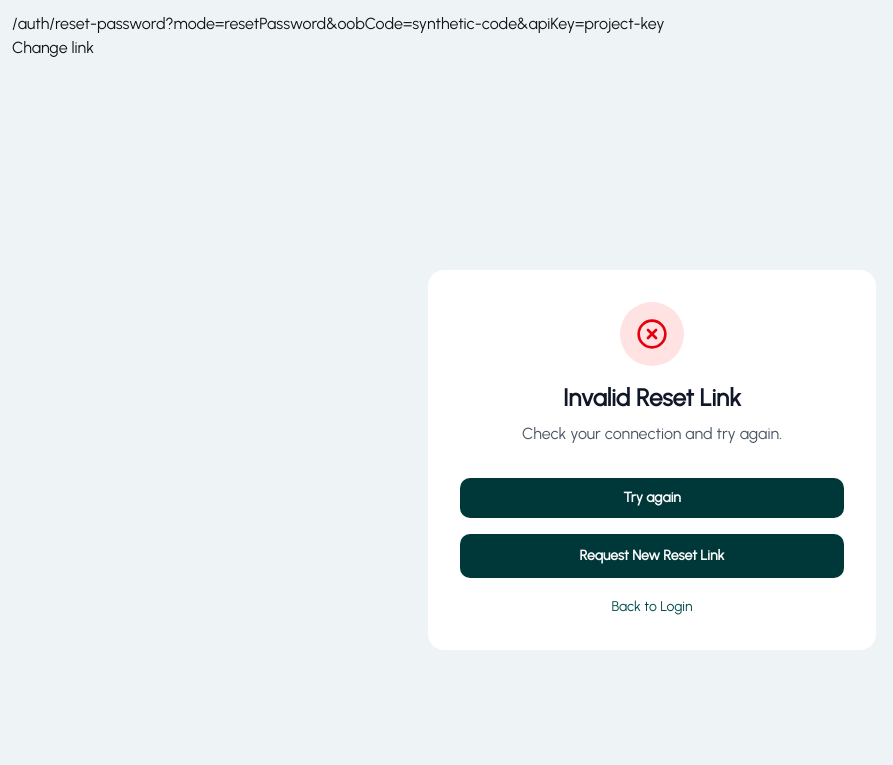
Test: retries checking a link after a connection failure
Expected: the message shows "connection", [522,424,782,443]
Click the button "Try again". click: (652, 498)
box: [460,478,844,518]
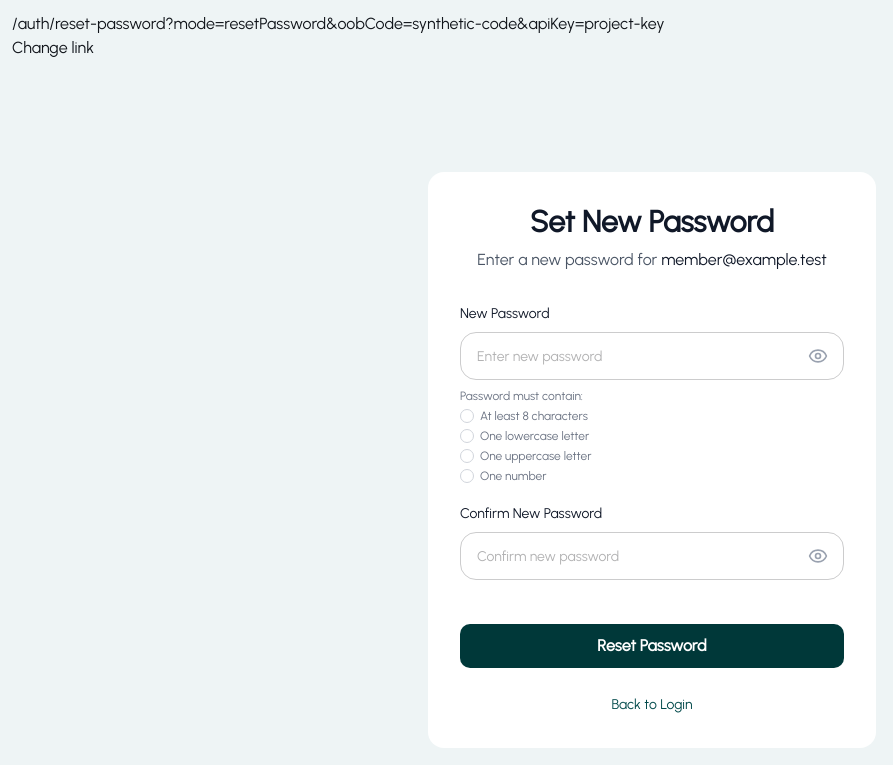
Expected: the password field labelled "New Password" is shown, [460,332,844,380]
